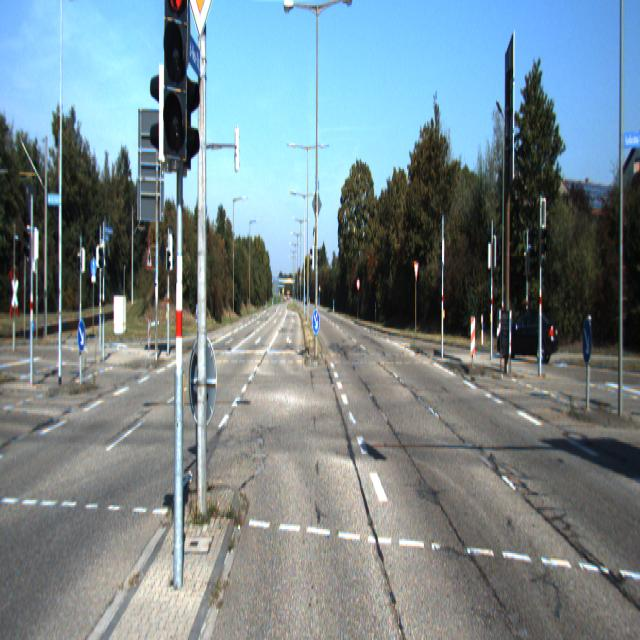Car: (496, 302, 557, 368)
